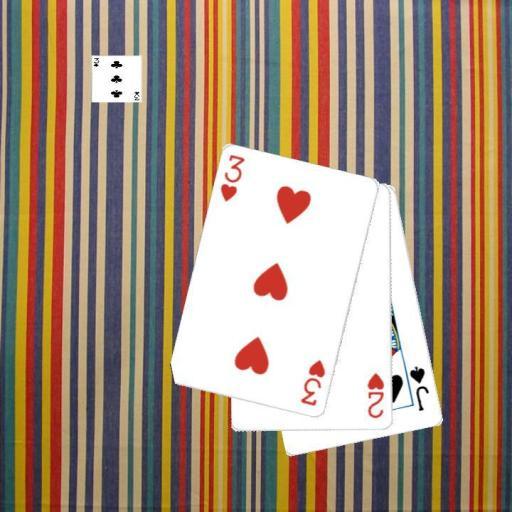2H: (365, 370, 386, 420)
3H: (217, 152, 247, 204), (297, 357, 327, 407)
JS: (407, 363, 431, 413)
